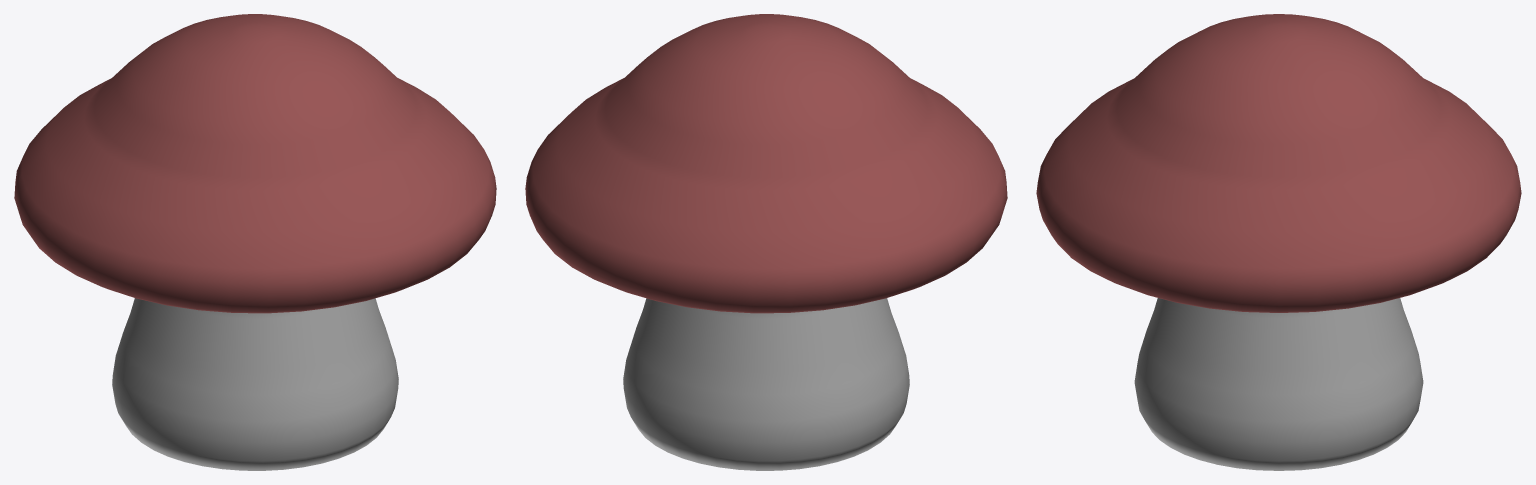
File: Hongo1_Mod.fbx
The picture shows the model from 3 angles, left to right: view 1: azimuth 30°, elevation 25°; view 2: azimuth 150°, elevation 25°; view 3: azimuth 270°, elevation 25°; orthographic projection.
Visible parts, largest first — view 1: Hongo1_Mod; view 2: Hongo1_Mod; view 3: Hongo1_Mod.
Boxes of the visible parts, <box> form: Hongo1_Mod: <box>14,14,496,470</box>; Hongo1_Mod: <box>525,14,1007,470</box>; Hongo1_Mod: <box>1036,14,1521,470</box>.
Size of the model in its own units: 864 by 761 by 869.
